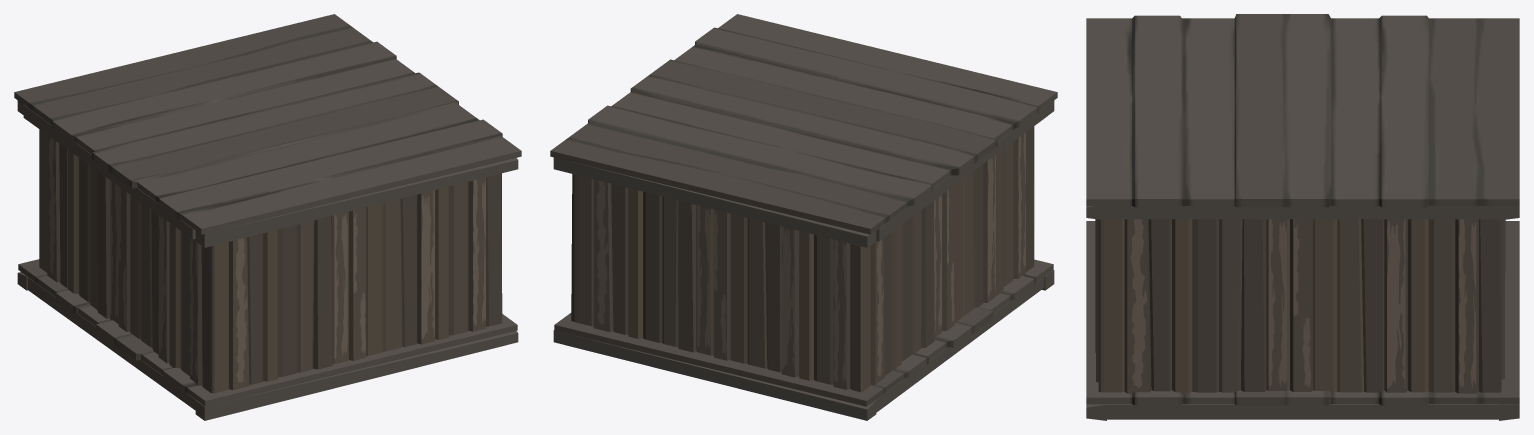
File: SM_Bld_Quarry_03.glb
3 views of the same model, side by side, from view 1: azimuth 30°, elevation 25°; view 2: azimuth 150°, elevation 25°; view 3: azimuth 270°, elevation 25° (orthographic). The views are drawn at different scales.
Visible parts, largest first — view 1: SM_Bld_Quarry_03; view 2: SM_Bld_Quarry_03; view 3: SM_Bld_Quarry_03.
Boxes of the visible parts, left/top/right/bottom form: SM_Bld_Quarry_03: left=14, top=14, right=521, bottom=420; SM_Bld_Quarry_03: left=550, top=14, right=1057, bottom=420; SM_Bld_Quarry_03: left=1086, top=14, right=1519, bottom=420.
Size of the model in its own units: 5.8 by 3.29 by 5.73.
Materials: 1 (1 with a texture image).
